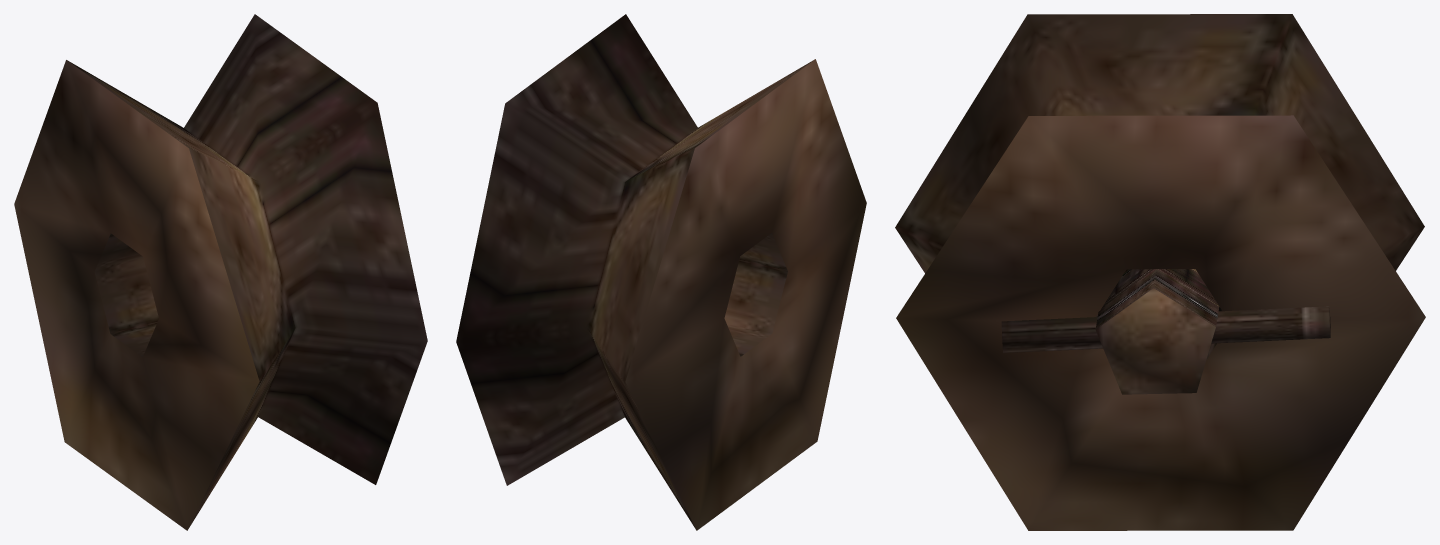
Rendered from EVT_OC_MAINGATE01_02.glb.
The picture shows the model from 3 angles, left to right: view 1: azimuth 30°, elevation 25°; view 2: azimuth 150°, elevation 25°; view 3: azimuth 270°, elevation 25°; orthographic projection. The views are drawn at different scales.
Parts seen in each view (by area): view 1: Mesh; view 2: Mesh; view 3: Mesh.
Part boxes in pixels (x1,y1,x2,y2): Mesh: [14, 14, 427, 530]; Mesh: [456, 14, 866, 530]; Mesh: [895, 14, 1425, 530].
Size of the model in its own units: 0.6302 by 0.9846 by 1.14.
1 material, 1 textured.
